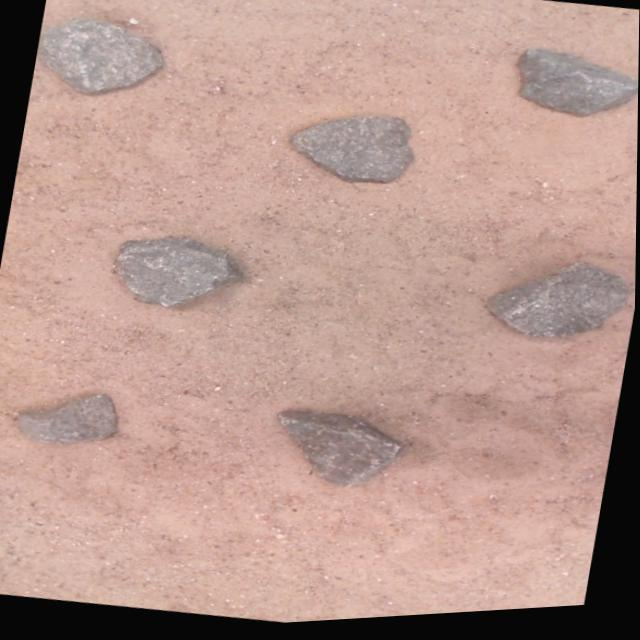rock: (490, 269, 629, 343), (279, 414, 404, 490), (39, 19, 162, 94), (117, 239, 241, 308), (518, 56, 639, 123), (292, 121, 413, 187), (20, 395, 118, 445)
